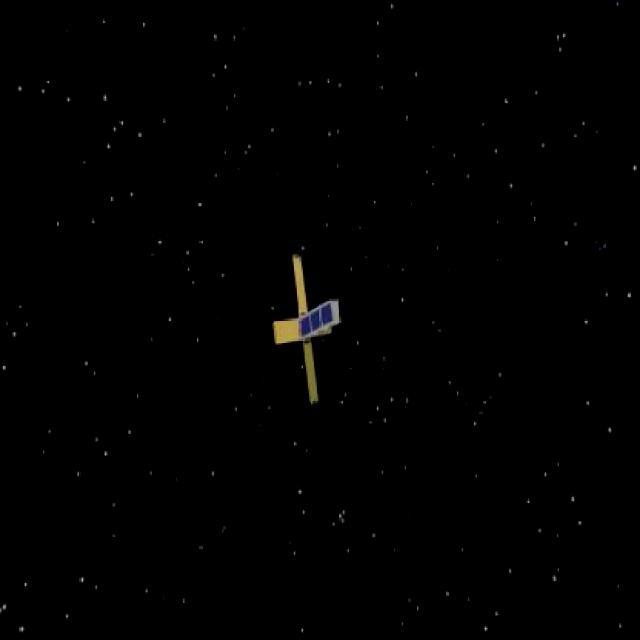satellite: (258, 246, 354, 408)
